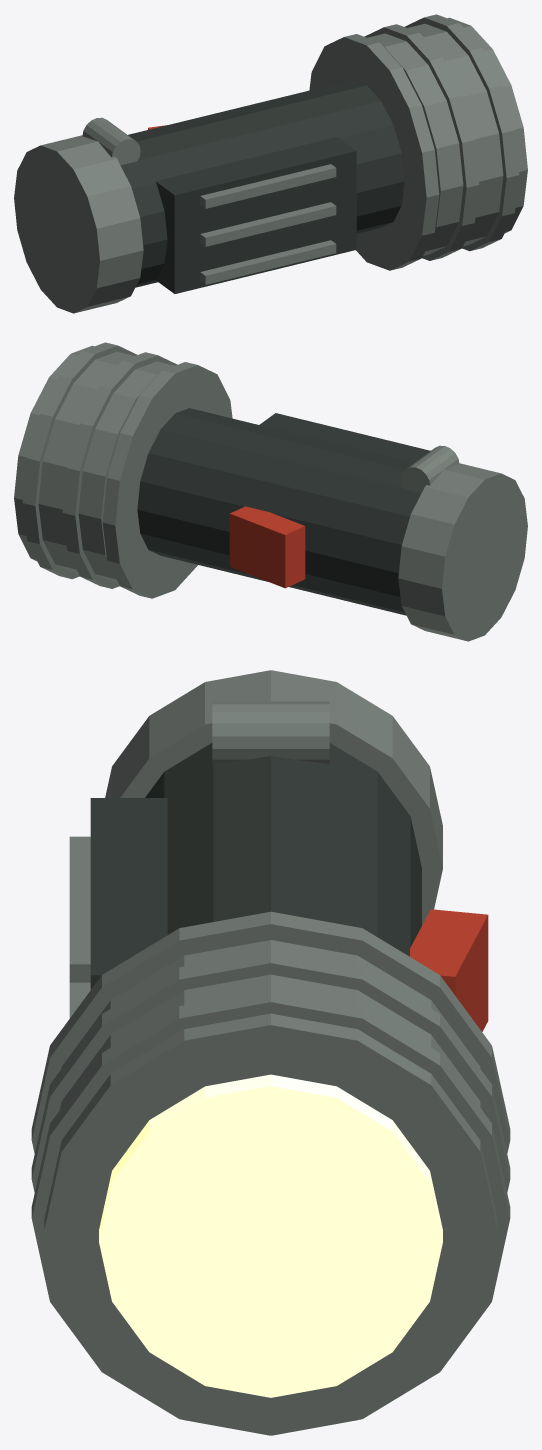
The model's file is flashlight.glb.
3 views of the same model, one above another, from view 1: azimuth 30°, elevation 25°; view 2: azimuth 150°, elevation 25°; view 3: azimuth 270°, elevation 25° (orthographic). The views are drawn at different scales.
Parts seen in each view (by area): view 1: flashlight body, tail cap, side grip, bezel, bezel ring, bezel ring.001, bezel ring.002, grip groove.002, grip groove, grip groove.001, lanyard mount; view 2: flashlight body, tail cap, bezel, bezel ring, red power switch, bezel ring.001, bezel ring.002, side grip, lanyard mount; view 3: glowing lens, bezel, flashlight body, tail cap, bezel ring.002, bezel ring, bezel ring.001, side grip, lanyard mount, red power switch, grip groove.002.
Part boxes in pixels (x1,y1,x2,y2): flashlight body: (120,80,404,287); tail cap: (14,135,143,313); side grip: (156,137,356,293); bezel: (367,17,527,255); bezel ring: (309,34,439,270); bezel ring.001: (364,24,479,260); bezel ring.002: (405,14,519,251); grip groove.002: (200,164,336,208); grip groove: (200,240,336,284); grip groove.001: (200,202,336,246); lanyard mount: (82,117,140,165); flashlight body: (137,408,421,615); tail cap: (398,463,527,641); bezel: (14,345,174,583); bezel ring: (102,362,232,598); red power switch: (229,506,305,588); bezel ring.001: (62,352,177,588); bezel ring.002: (22,342,136,579); side grip: (259,413,430,462); lanyard mount: (401,445,459,493); glowing lens: (99,1074,442,1397); bezel: (44,940,497,1435); flashlight body: (145,743,421,956); tail cap: (105,670,442,925); bezel ring.002: (31,989,510,1419); bezel ring: (31,911,510,1153); bezel ring.001: (31,950,510,1192); side grip: (90,798,167,989); lanyard mount: (212,701,329,763); red power switch: (410,909,488,1031); grip groove.002: (69,836,90,982).
Bounding box in the file's own units: 1.17 × 0.57 × 0.57.
